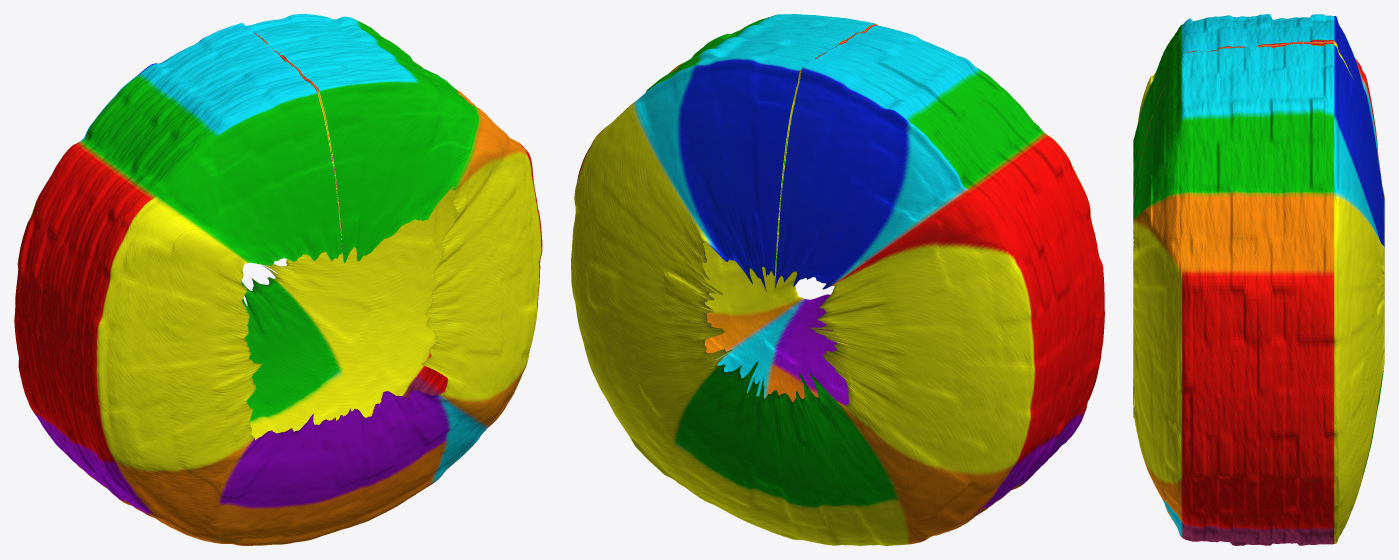
The picture shows the model from 3 angles, left to right: view 1: azimuth 30°, elevation 25°; view 2: azimuth 150°, elevation 25°; view 3: azimuth 270°, elevation 25°; orthographic projection. The views are drawn at different scales.
Visible parts, largest first — view 1: geometry_0; view 2: geometry_0; view 3: geometry_0.
Part boxes in pixels (<box>): geometry_0: <box>14,14,542,545</box>; geometry_0: <box>571,14,1104,545</box>; geometry_0: <box>1133,14,1384,545</box>.
Size of the model in its own units: 1.9 by 1.84 by 0.8894.
Materials: 1 (1 with a texture image).
